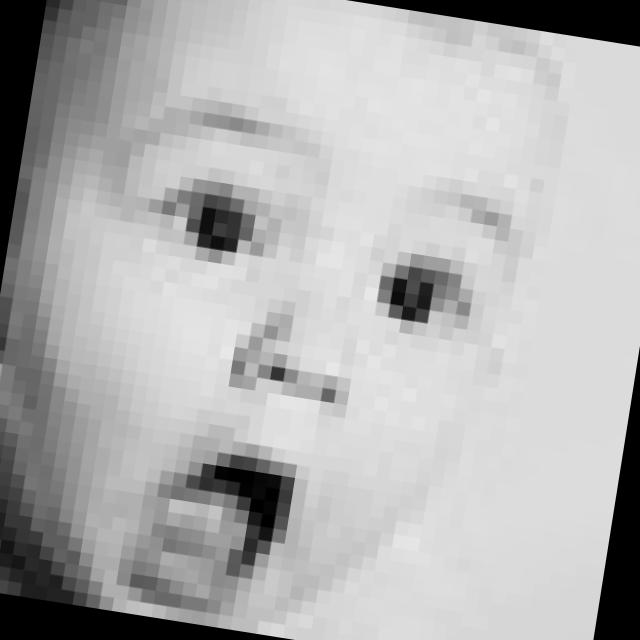surprise: (49, 85, 530, 640)
